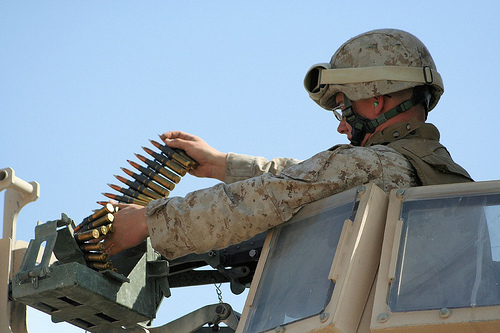rifle in hand: (18, 117, 252, 302)
